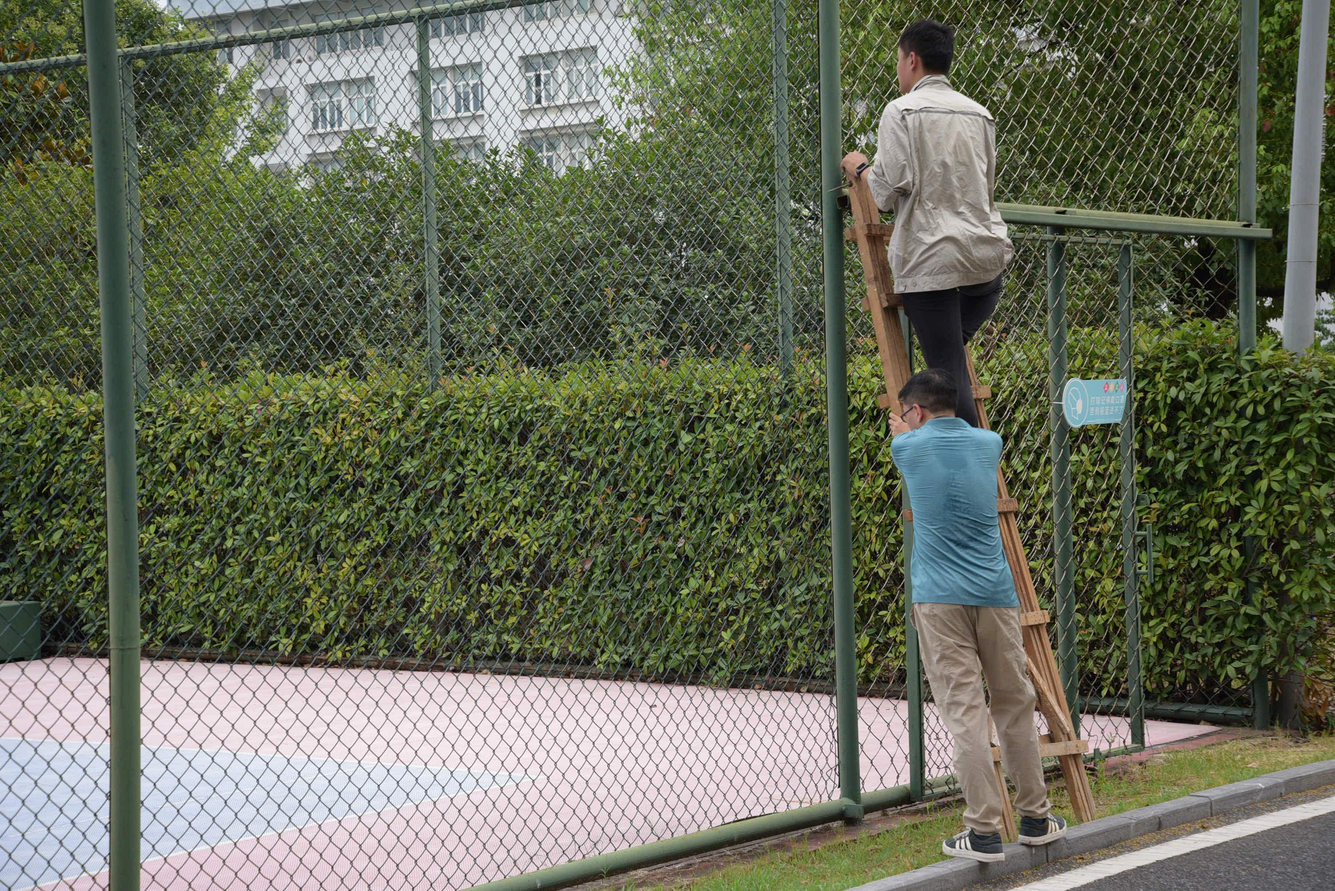安全帽、安全绳均未佩戴的工作人员: (835, 15, 1017, 430)
安全帽、工作服均未穿戴的工作人员: (884, 366, 1070, 865)
